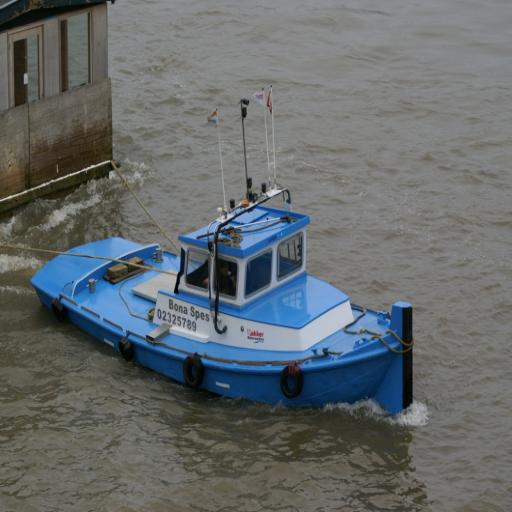tugboat: (27, 172, 424, 432)
